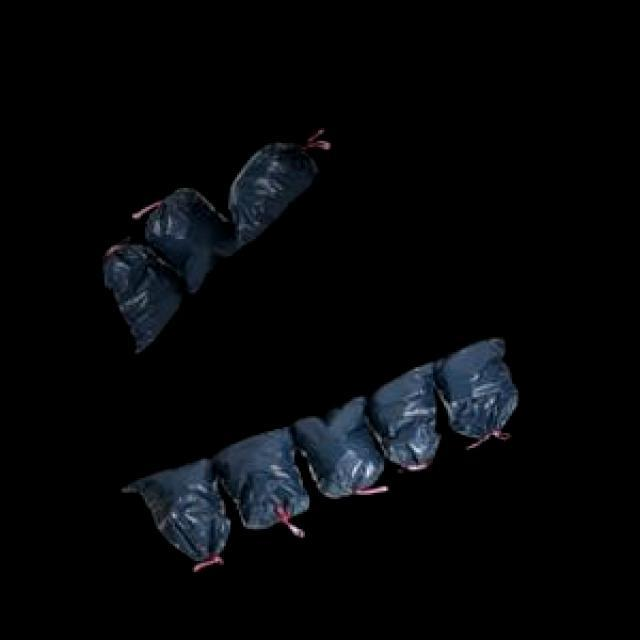Trashbag: (119, 457, 234, 560), (226, 137, 317, 250), (216, 420, 306, 534), (436, 335, 522, 440), (300, 395, 381, 501), (150, 191, 233, 292), (98, 252, 173, 354), (370, 365, 441, 468)
